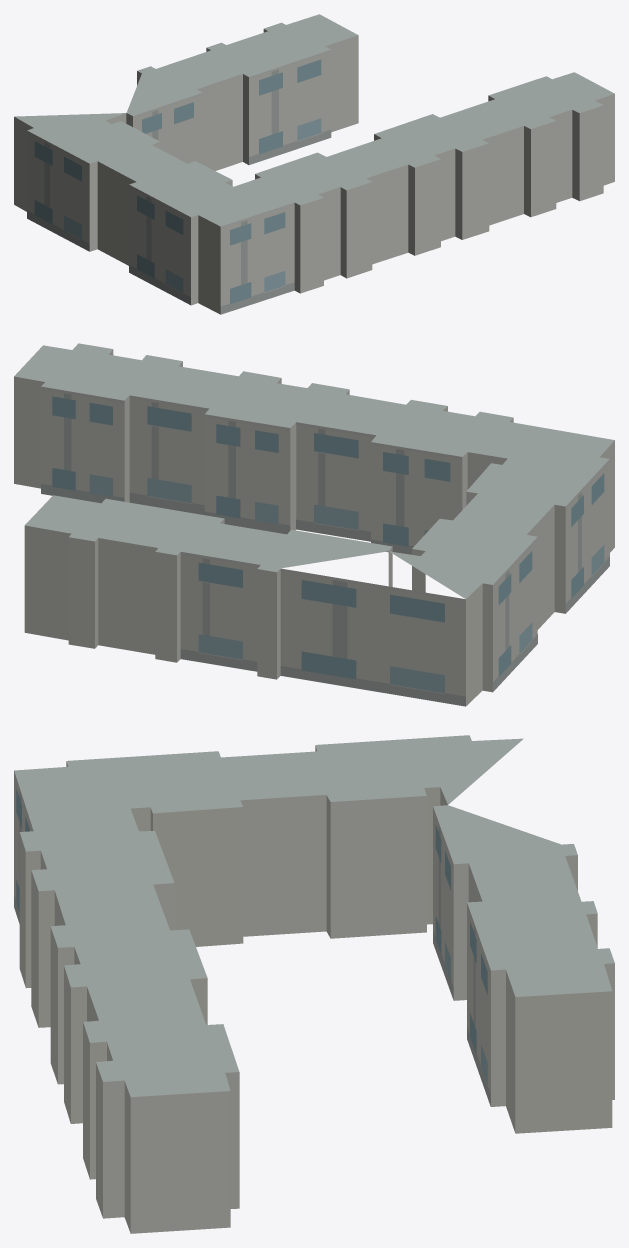
The model's file is survey-upis-32926980.glb.
3 renders of one model, top to bottom at view 1: azimuth 30°, elevation 25°; view 2: azimuth 150°, elevation 25°; view 3: azimuth 270°, elevation 25°, orthographic. The views are drawn at different scales.
Visible parts, largest first — view 1: survey-upis-32926980.tmp; view 2: survey-upis-32926980.tmp; view 3: survey-upis-32926980.tmp.
Part boxes in pixels (box(x1,y1,x2,y2)): survey-upis-32926980.tmp: box(14, 14, 614, 314); survey-upis-32926980.tmp: box(14, 343, 614, 706); survey-upis-32926980.tmp: box(14, 735, 614, 1233).
Size of the model in its own units: 52.01 by 9.15 by 36.48.
